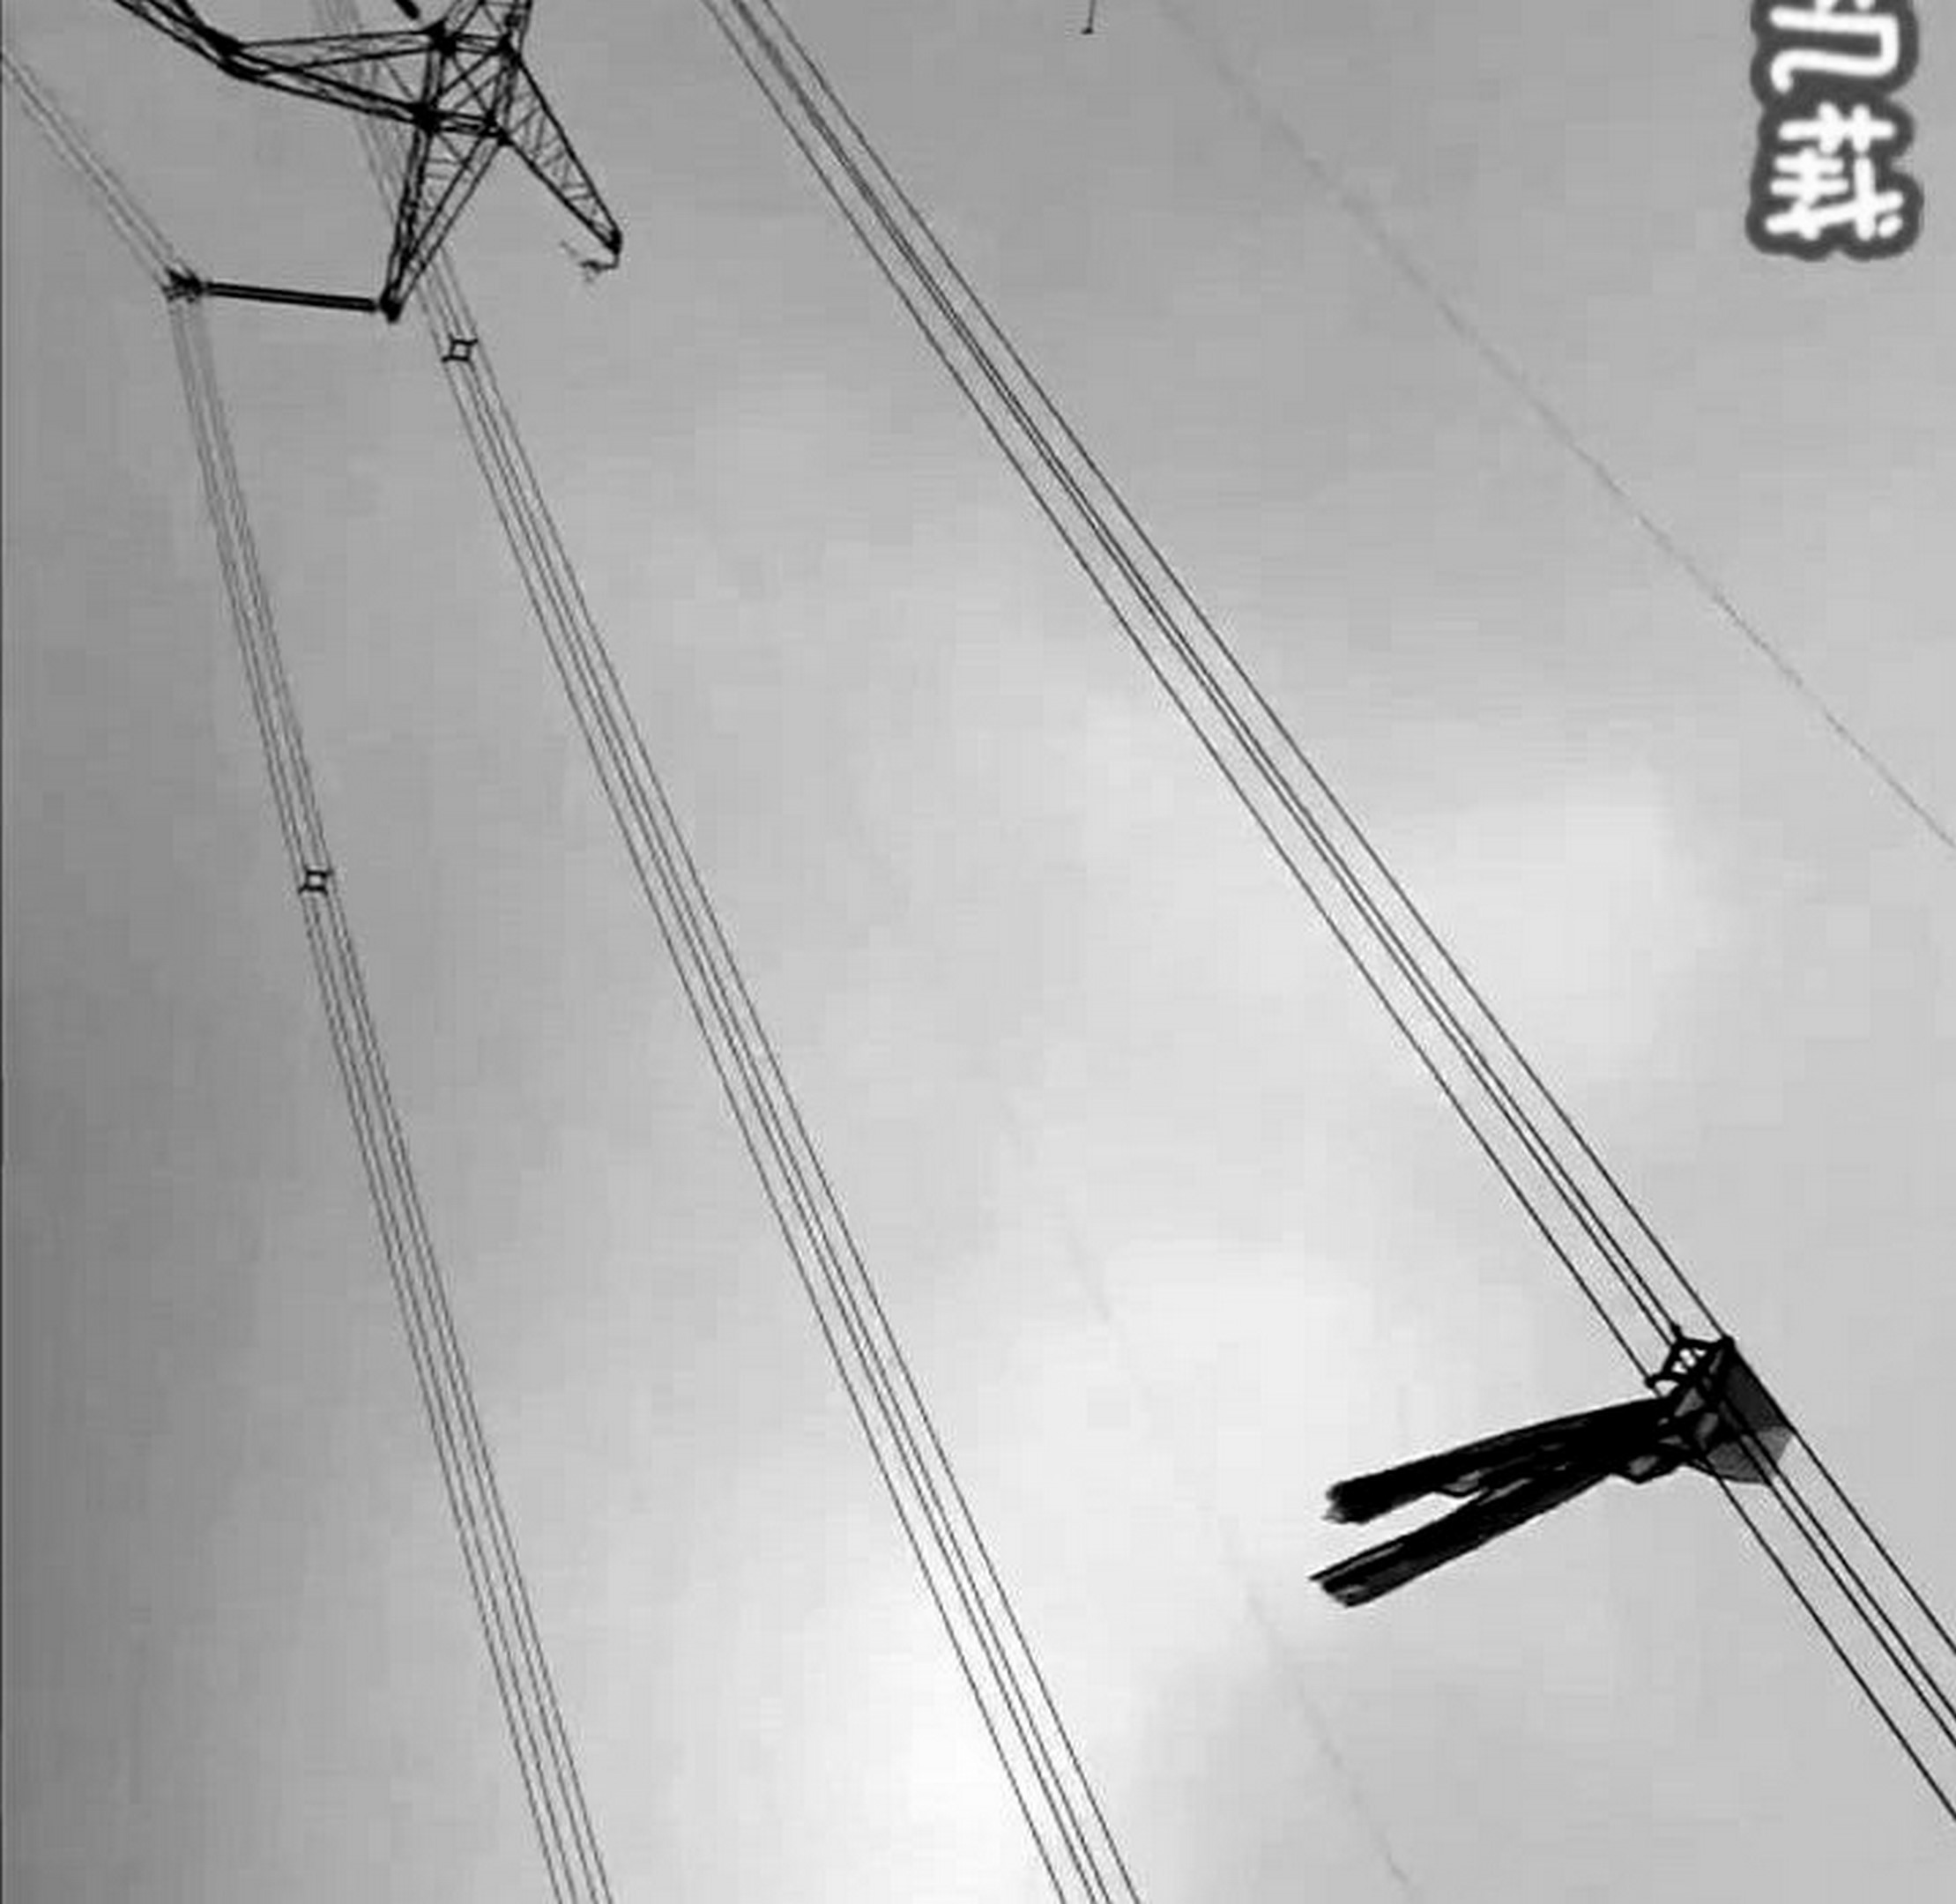wire foreign body: (1306, 1291, 1806, 1633)
